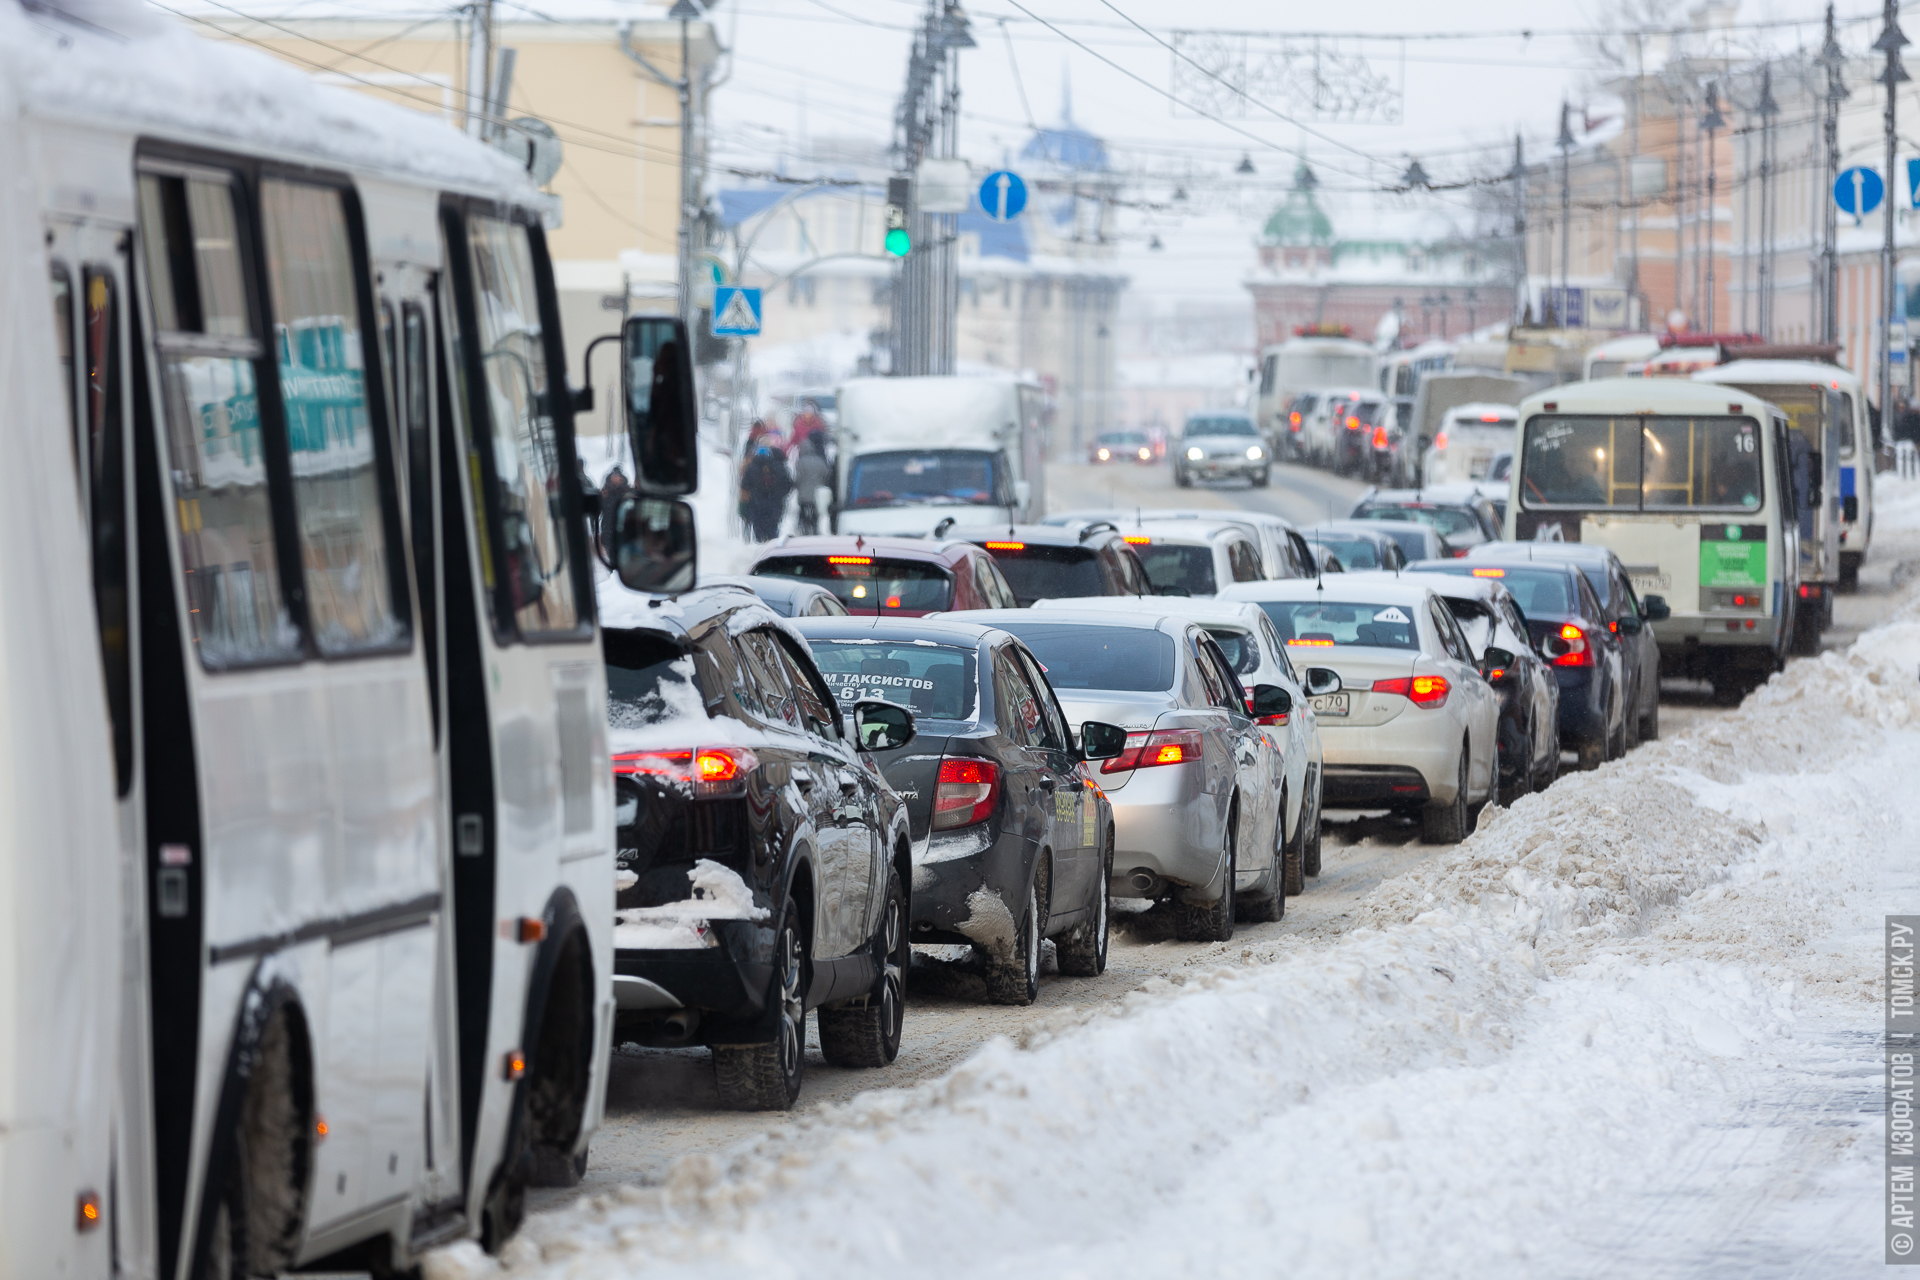sign: (707, 277, 766, 341), (974, 167, 1031, 224), (1831, 164, 1886, 219)
